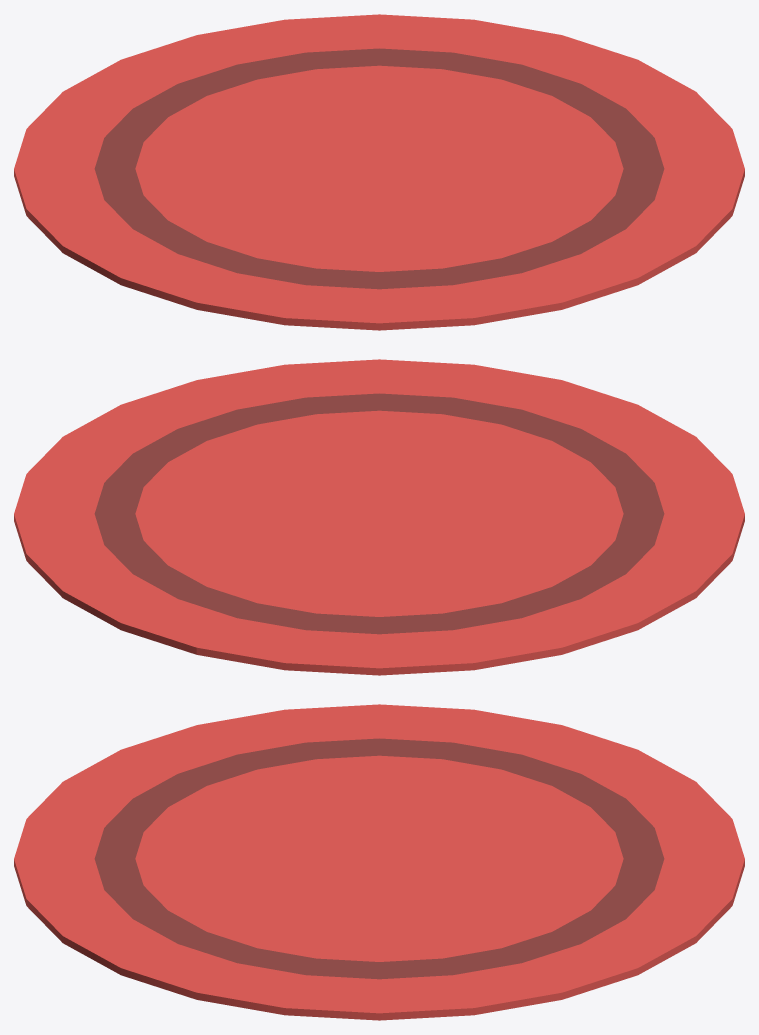
File: rugRound.obj
The picture shows the model from 3 angles, top to bottom: view 1: azimuth 30°, elevation 25°; view 2: azimuth 150°, elevation 25°; view 3: azimuth 270°, elevation 25°; orthographic projection.
Parts seen in each view (by area): view 1: rugRound; view 2: rugRound; view 3: rugRound.
Part boxes in pixels (x1,y1,x2,y2): rugRound: (14,14,744,330); rugRound: (14,359,744,675); rugRound: (14,704,744,1020).
Bounding box in the file's own units: 0.92 × 0.01 × 0.92.
